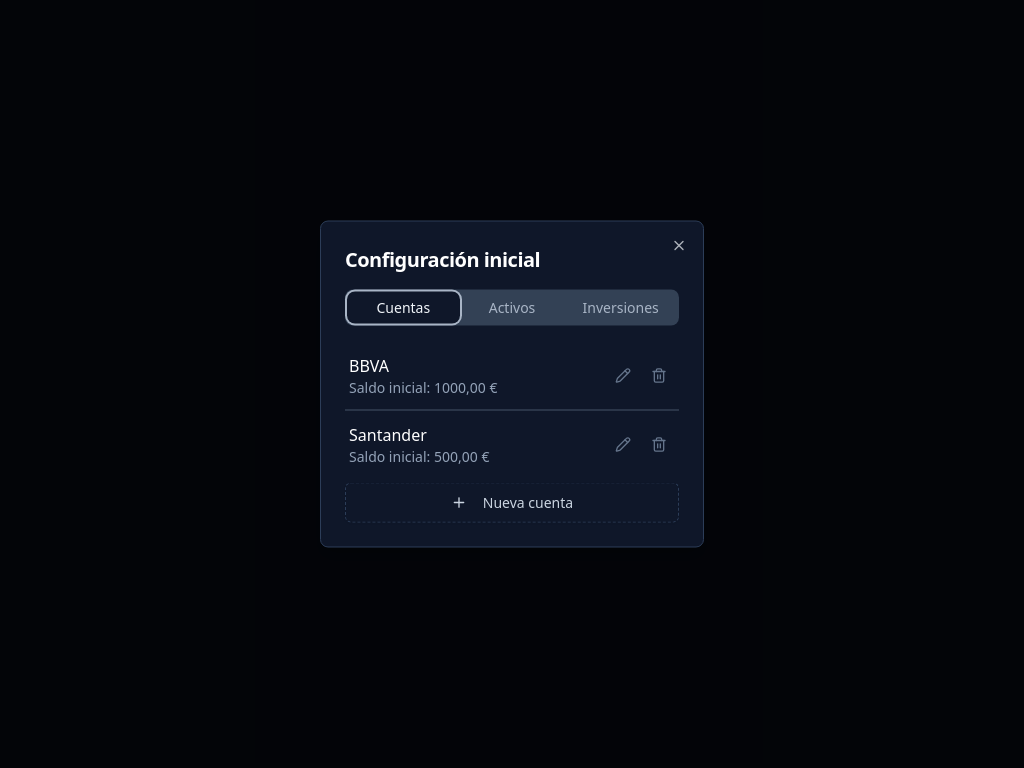
Test case: AccountsModal › cancels delete on cancel click
The width and height of the screenshot is (1024, 768).
Click the button named "Eliminar BBVA": (659, 376) [643, 360, 675, 392]
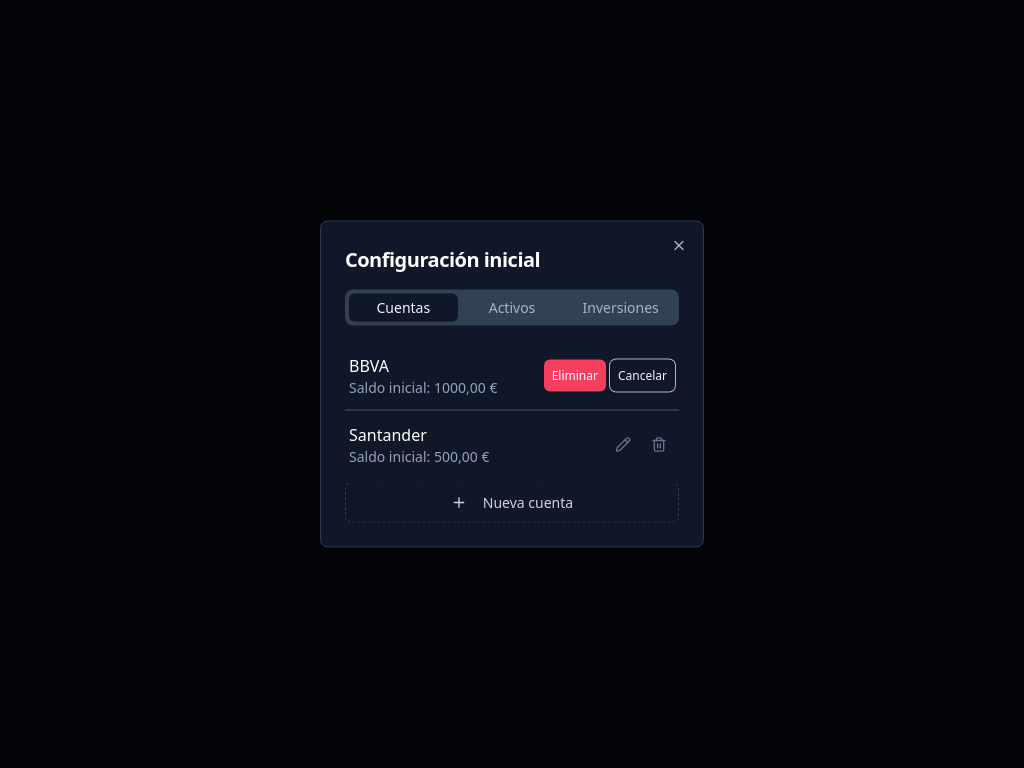
expect the button with aria-label "Confirmar eliminación de BBVA" is shown: met, box [544, 360, 606, 392]
Click the button "Cancelar": (642, 376) [610, 360, 675, 392]
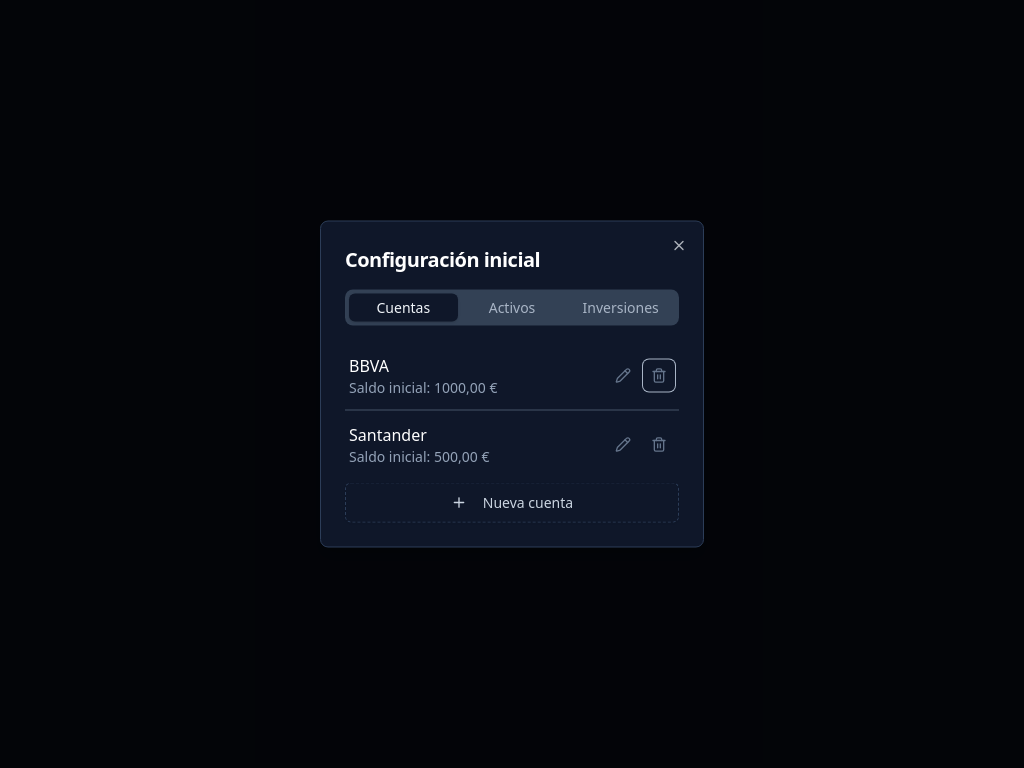
expect the button named "Eliminar BBVA" is shown: met, box [643, 360, 675, 392]
